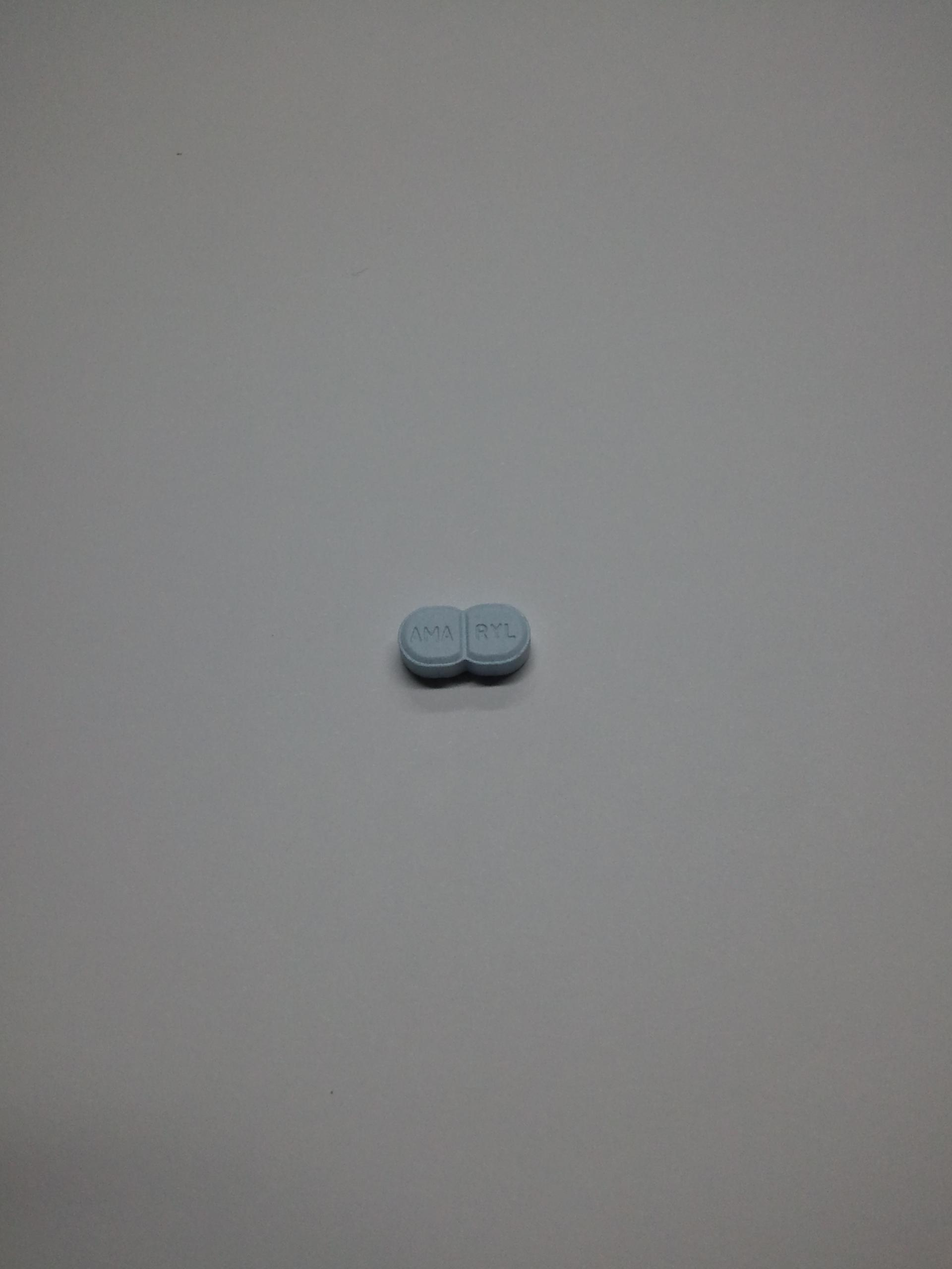Pill: (379, 587, 543, 694)
